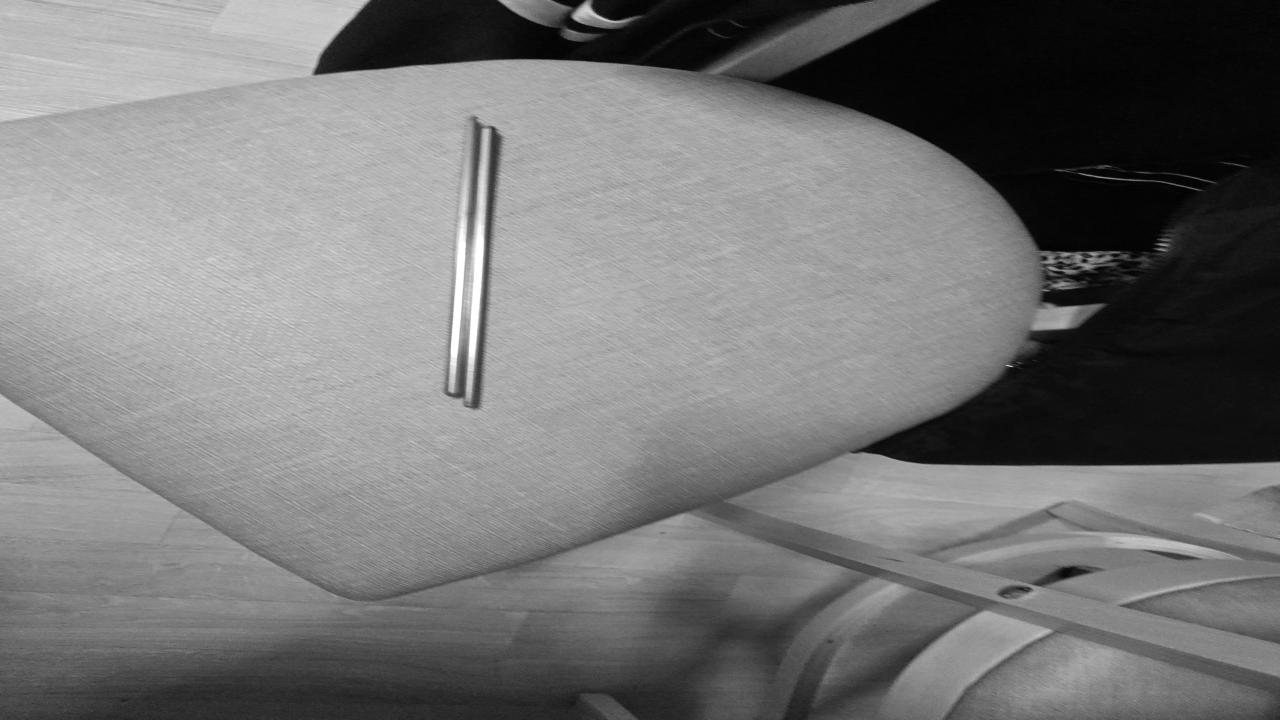chopstick: (448, 117, 499, 407)
